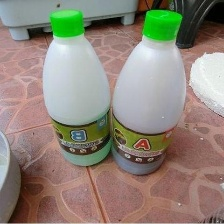insecticide: (110, 8, 189, 179), (40, 8, 113, 168)
